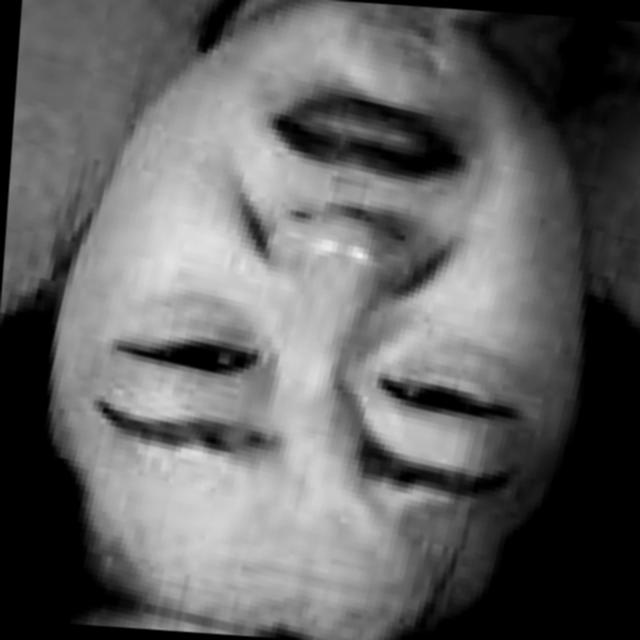disgust: (67, 7, 570, 580)
